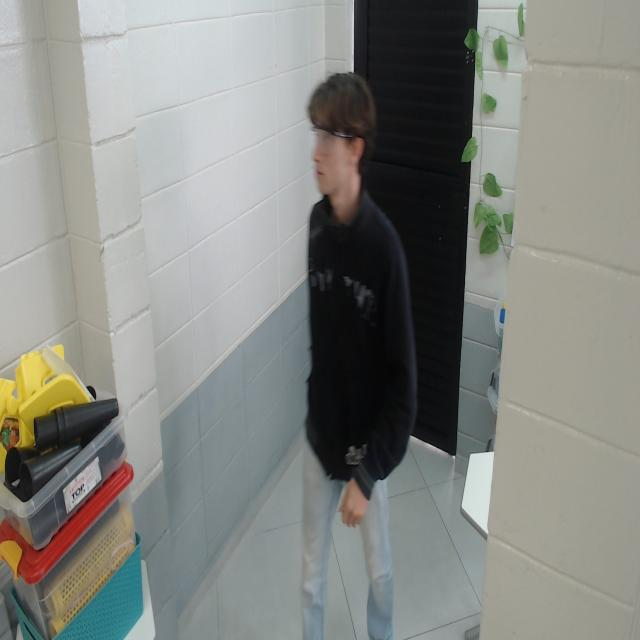oculos-epi: (309, 125, 355, 159)
